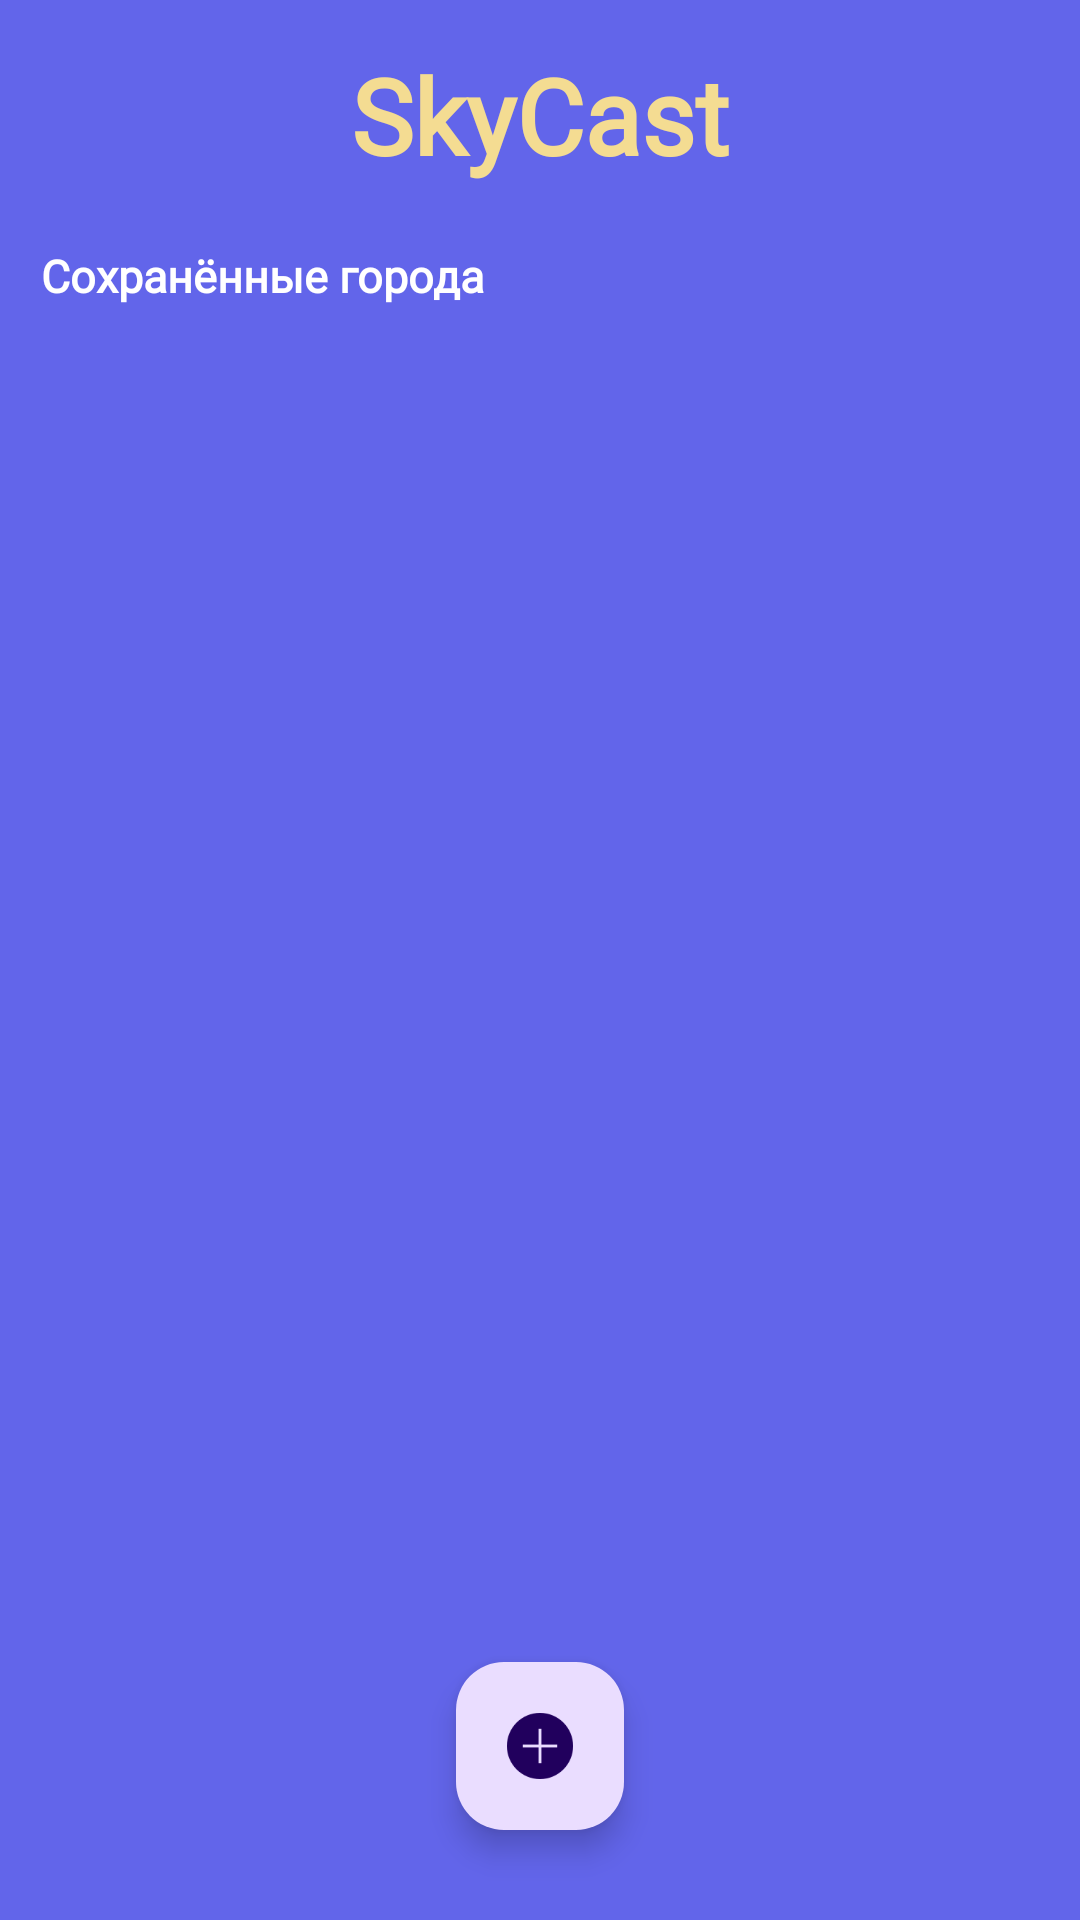

Icons on this 1080 × 1920 Android screen, each with its box as (x1, y1, x2, y2):
plus: (456, 1662, 624, 1830)
